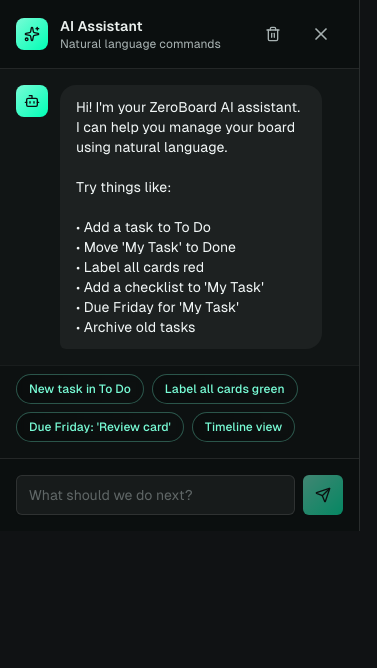
AI shared-board permissions › keeps composition confirmation out of AI commands ({"isComposing":true})
Type "未完成の入力" into the field with placeholder "What should we do next?". click: (156, 495)
box: [16, 475, 295, 515]
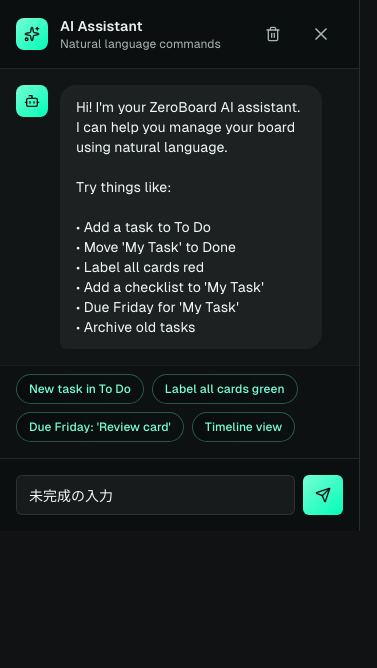
Press Enter in the field with placeholder "What should we do next?", box [16, 475, 295, 515]
Press Enter in the field with placeholder "What should we do next?", box [16, 475, 295, 515]
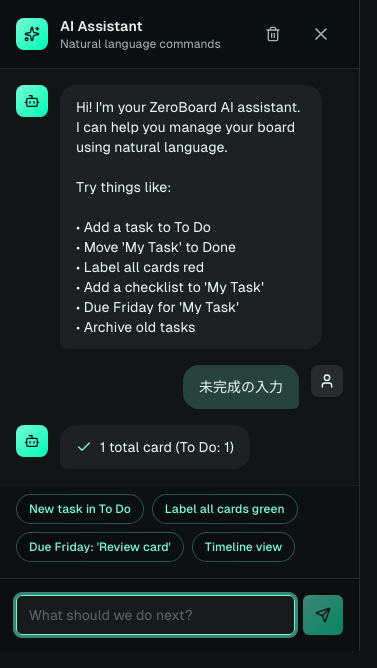
Expected: the text "1 total card (To Do: 1)" is shown, [100, 437, 234, 457]
